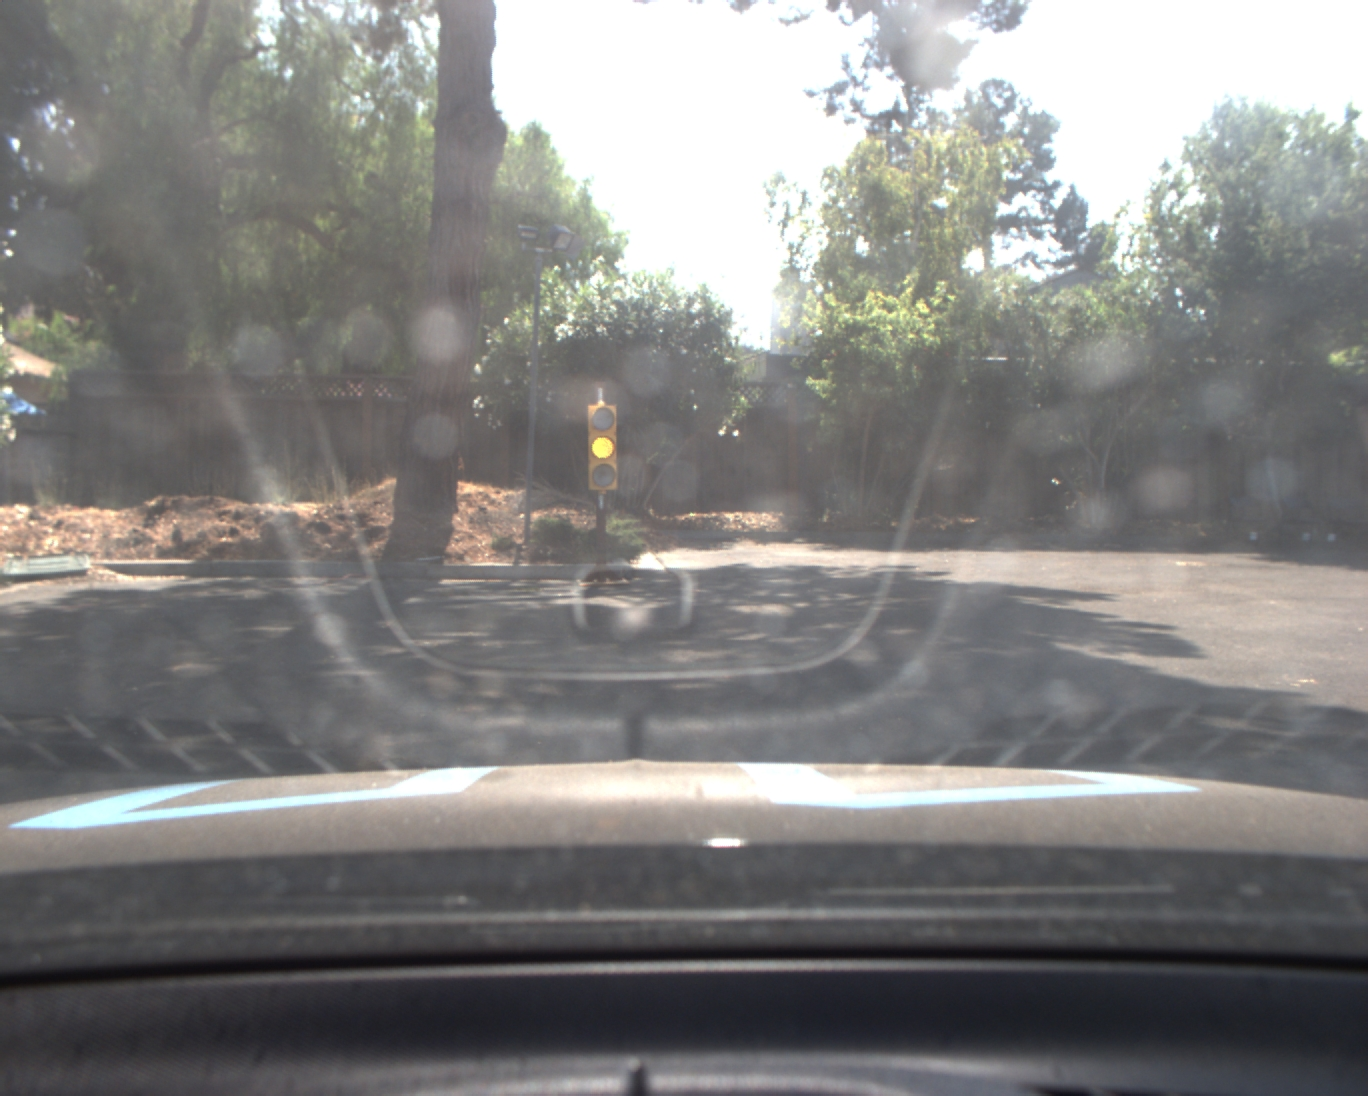yellow: (587, 402, 620, 493)
